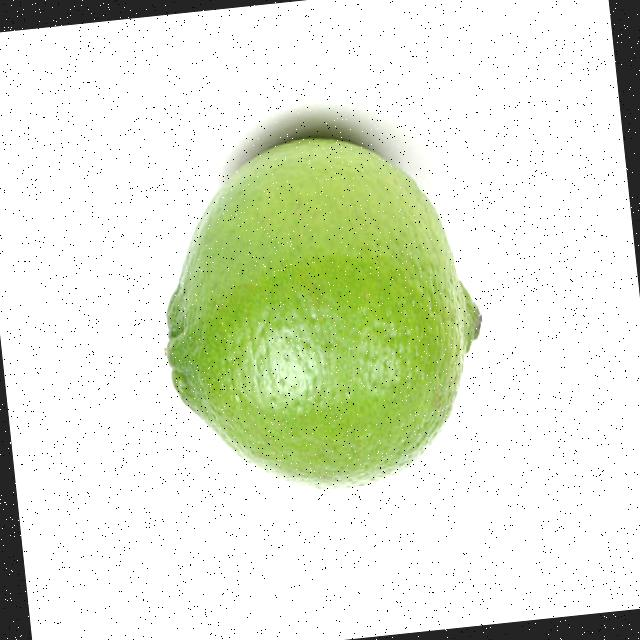Lemon: (141, 119, 500, 514)
